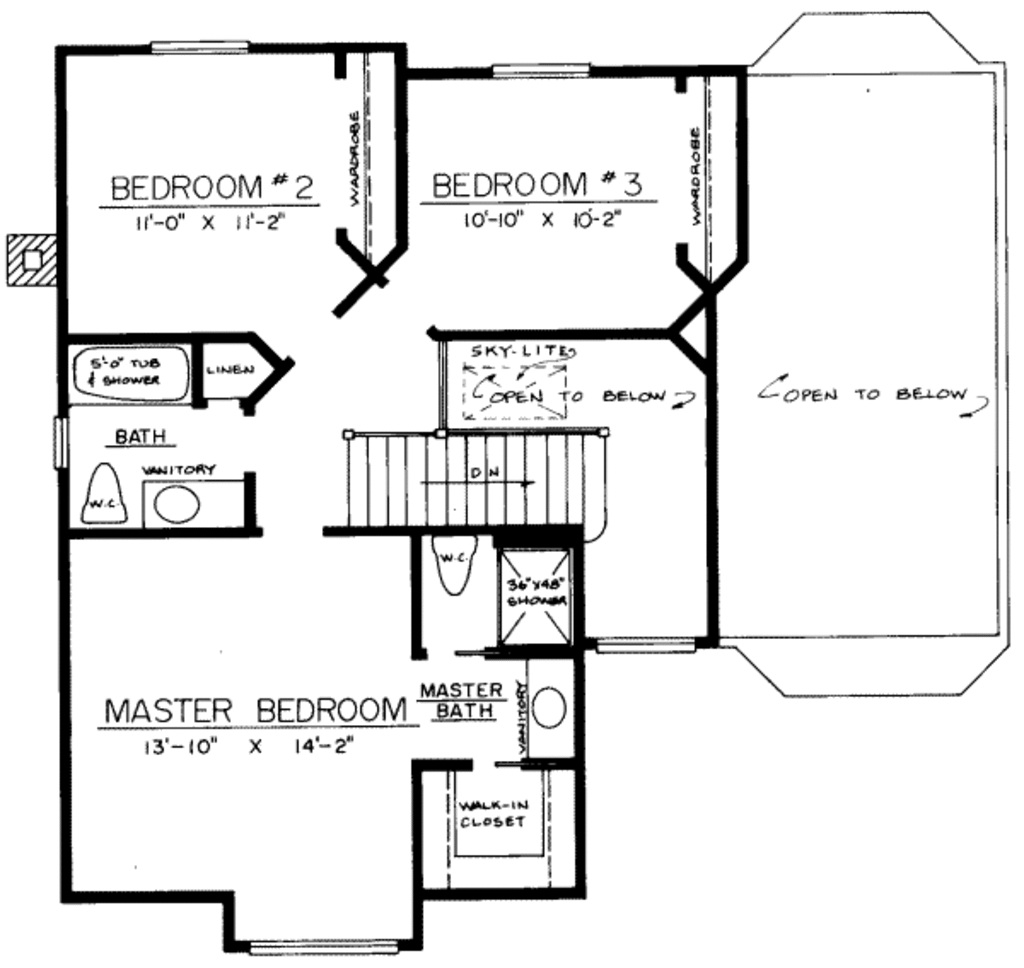large_sink: (70, 448, 140, 526), (420, 535, 489, 597)
small_sink: (518, 657, 580, 754), (145, 482, 242, 525)
stairs: (333, 425, 620, 541)
tub: (65, 343, 193, 410)
window: (247, 937, 403, 954), (146, 37, 261, 57), (596, 635, 699, 657), (46, 413, 75, 471), (490, 59, 586, 75)
